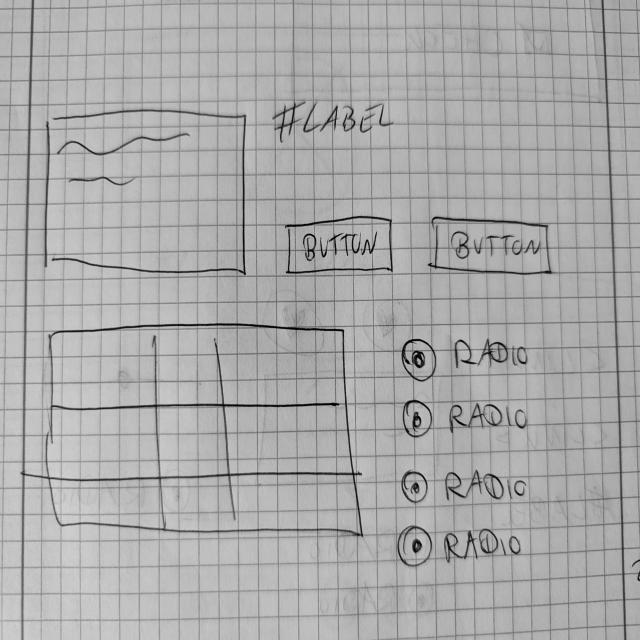button: (430, 212, 556, 282), (283, 213, 398, 280)
label: (273, 96, 398, 144)
radio: (401, 335, 531, 386), (395, 524, 529, 570), (400, 397, 534, 442), (399, 469, 531, 507)
table: (46, 319, 365, 542)
textarea: (42, 108, 252, 283)
